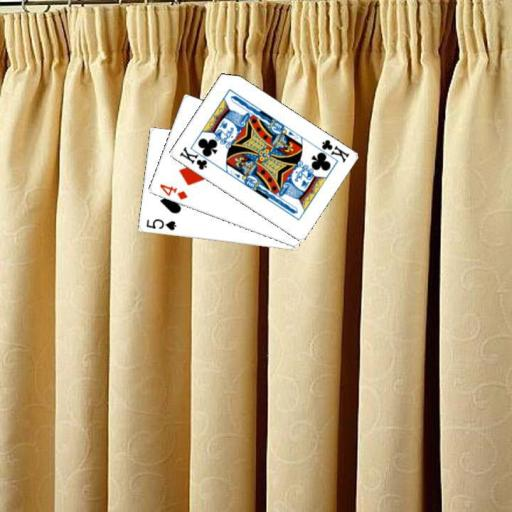4D: (157, 181, 189, 201)
5S: (143, 215, 177, 232)
KC: (176, 144, 215, 171), (312, 137, 351, 164)
